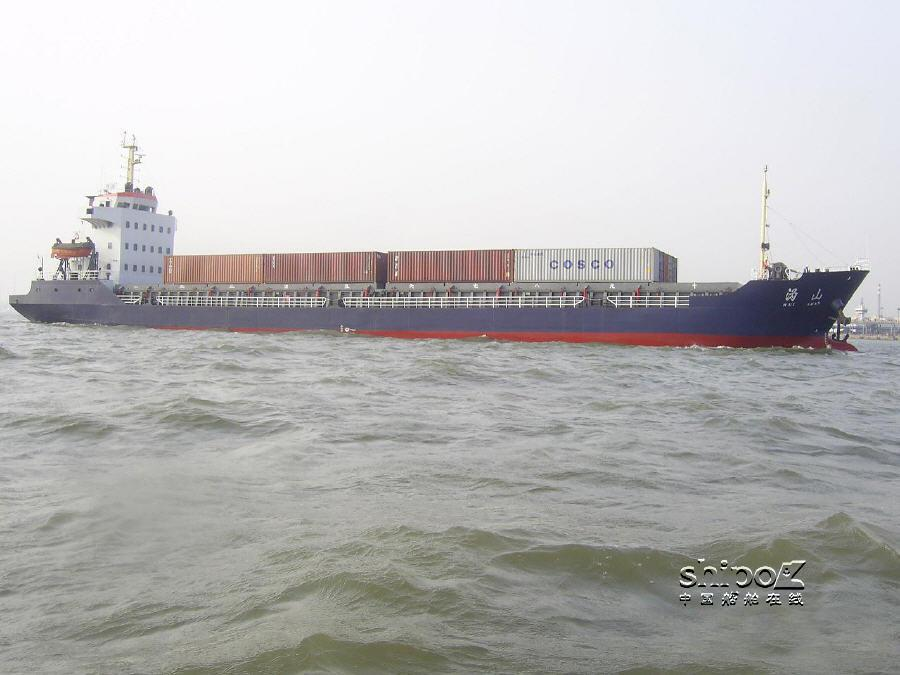Cargoship: (2, 147, 876, 344)
